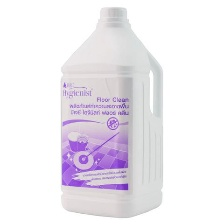cleaning_solution: (58, 3, 167, 221)
